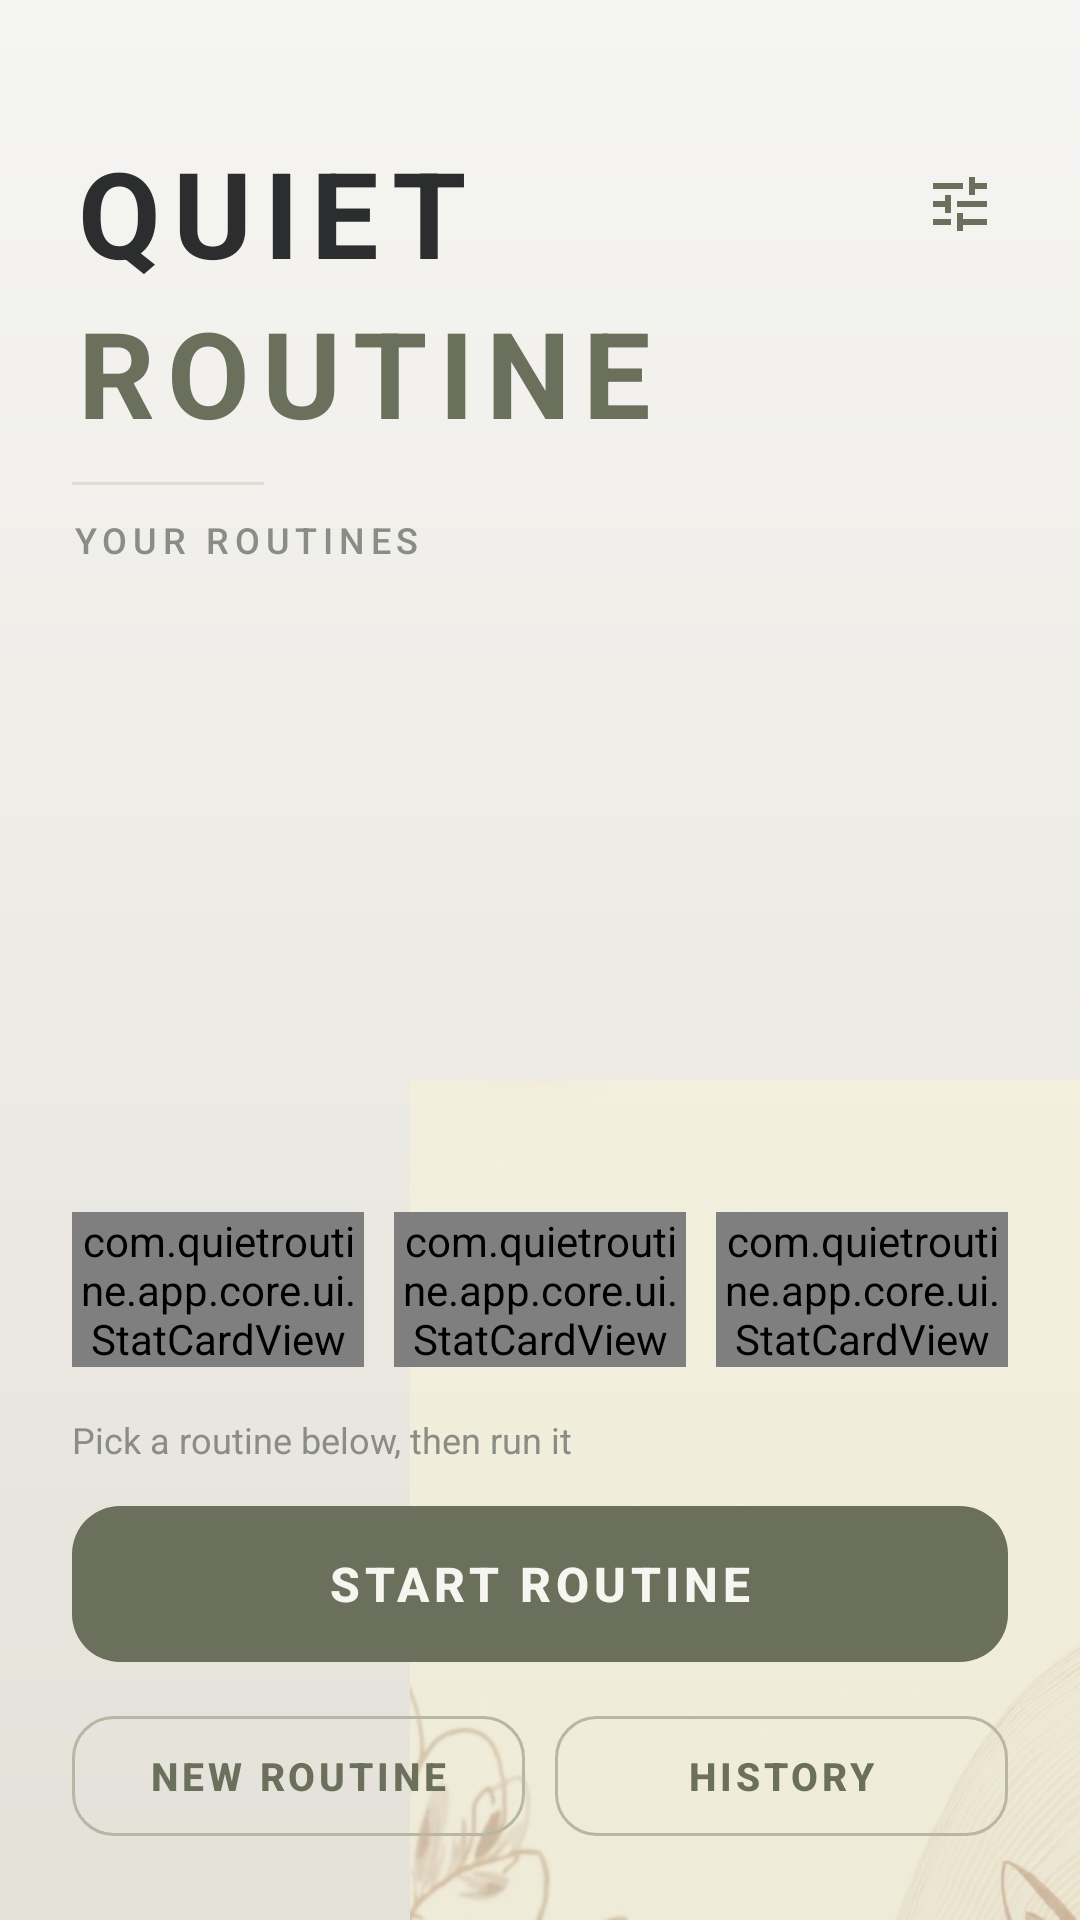

Icon click points for this 1080*1920 phone screenshot, format (x,y):
Open settings: (960,204)
